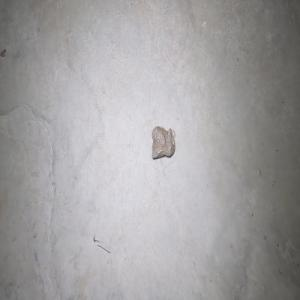Rock: (151, 123, 175, 159)
